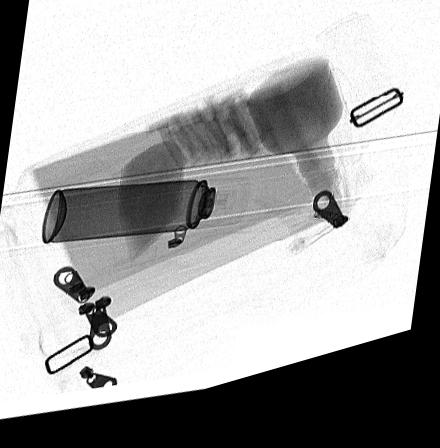Sprayer: (40, 189, 252, 246)
